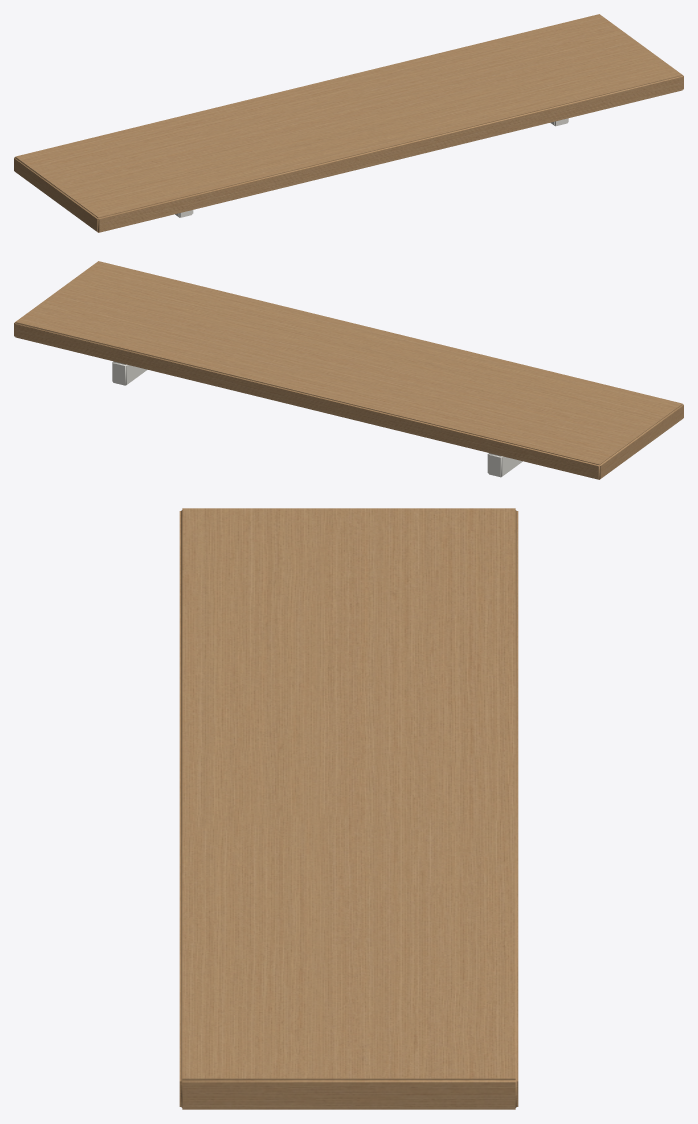
Rendered from shared.shelf.gltf.
3 renders of one model, top to bottom at view 1: azimuth 30°, elevation 25°; view 2: azimuth 150°, elevation 25°; view 3: azimuth 270°, elevation 25°, orthographic. The views are drawn at different scales.
Parts seen in each view (by area): view 1: shared.shelf.solid-oak-board; view 2: shared.shelf.solid-oak-board; view 3: shared.shelf.solid-oak-board.
Boxes of the visible parts, box(x1,y1,x2,y2) form: shared.shelf.solid-oak-board: box(14, 14, 683, 232); shared.shelf.solid-oak-board: box(14, 261, 683, 479); shared.shelf.solid-oak-board: box(179, 508, 518, 1109).
Bounding box in the file's own units: 1 × 0.06 × 0.25.
Materials: 2 (1 with a texture image).
